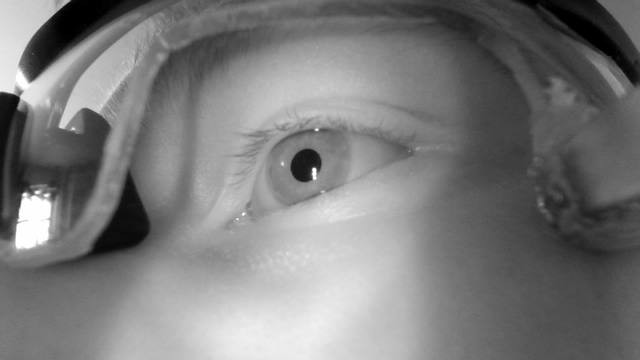pupil: (290, 148, 323, 182)
